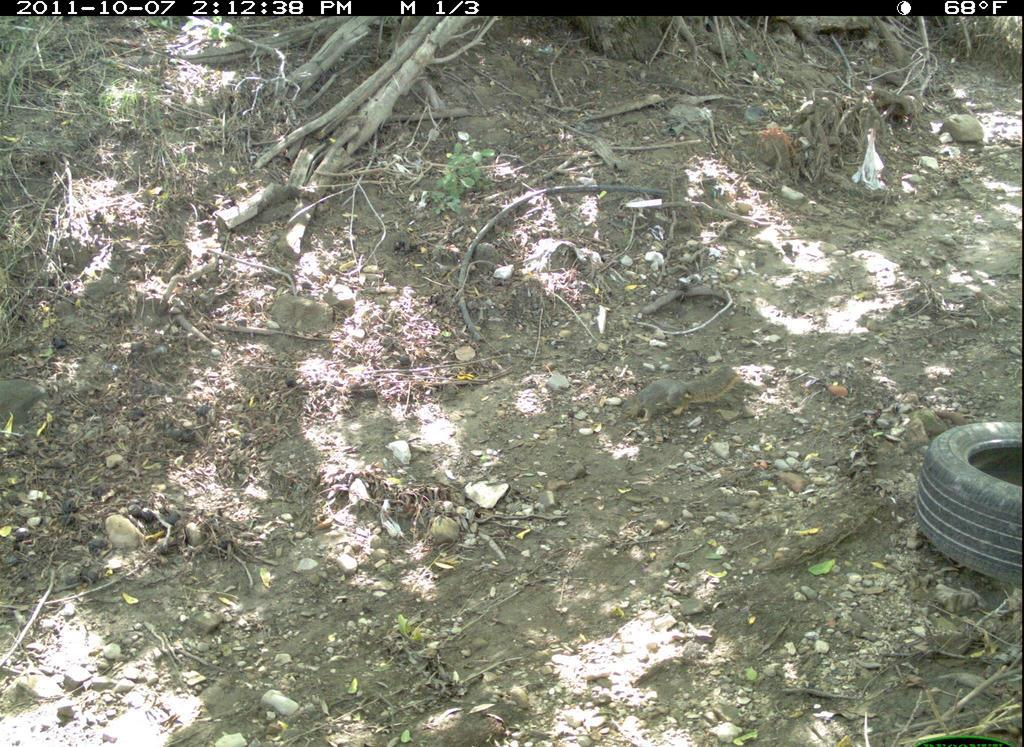squirrel: (620, 359, 745, 431)
